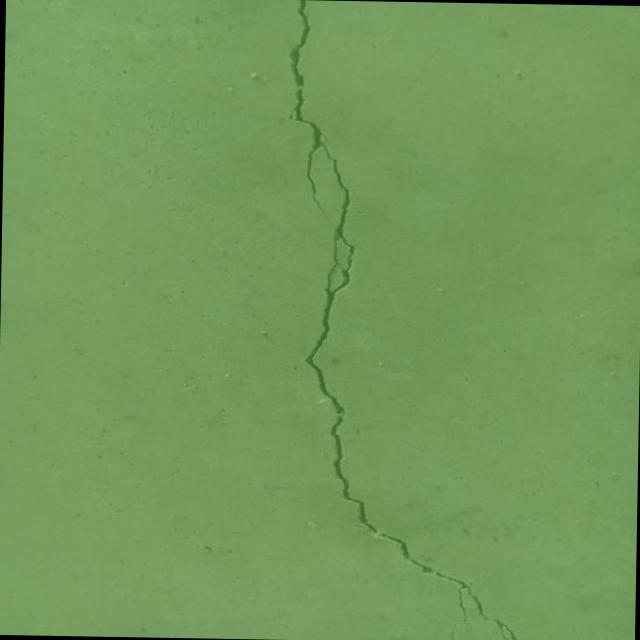crack: (272, 0, 535, 640), (528, 595, 585, 640), (450, 609, 457, 640)
